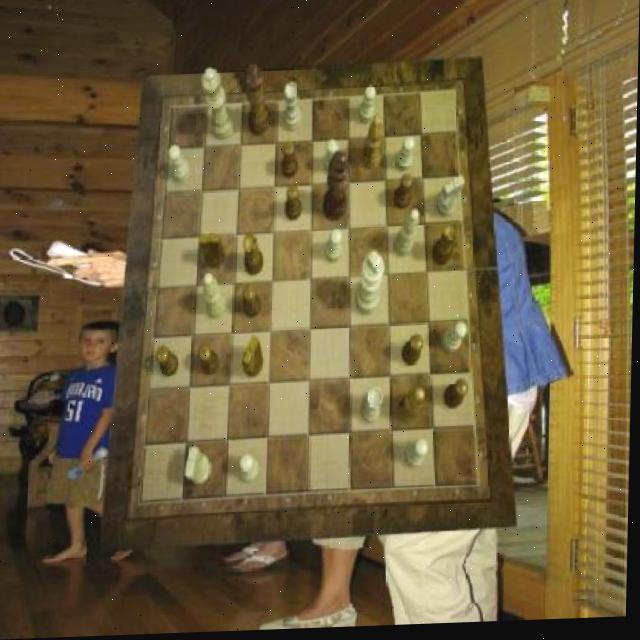bishop: (362, 118, 384, 172), (399, 392, 427, 429)
black-bishop: (322, 154, 349, 224)
black-king: (199, 235, 227, 272), (243, 337, 265, 379)
black-knight: (156, 348, 180, 380), (402, 338, 425, 370), (199, 345, 222, 377), (445, 383, 470, 412), (394, 177, 414, 212), (281, 143, 299, 181), (243, 287, 262, 321), (285, 186, 303, 221)
black-pawn: (244, 66, 272, 139)
black-queen: (432, 227, 459, 269), (244, 235, 265, 278)
black-rook: (394, 212, 419, 261), (204, 274, 228, 321)
white-bishop: (356, 253, 386, 318)
white-king: (436, 180, 466, 222), (186, 447, 214, 487)
white-knight: (168, 145, 191, 184), (443, 324, 468, 358), (406, 441, 431, 471), (396, 140, 416, 175), (358, 89, 375, 128), (324, 142, 342, 177), (326, 231, 343, 266), (240, 457, 261, 485)
white-pawn: (200, 70, 236, 143)
white-queen: (285, 85, 303, 135), (362, 390, 385, 428)
